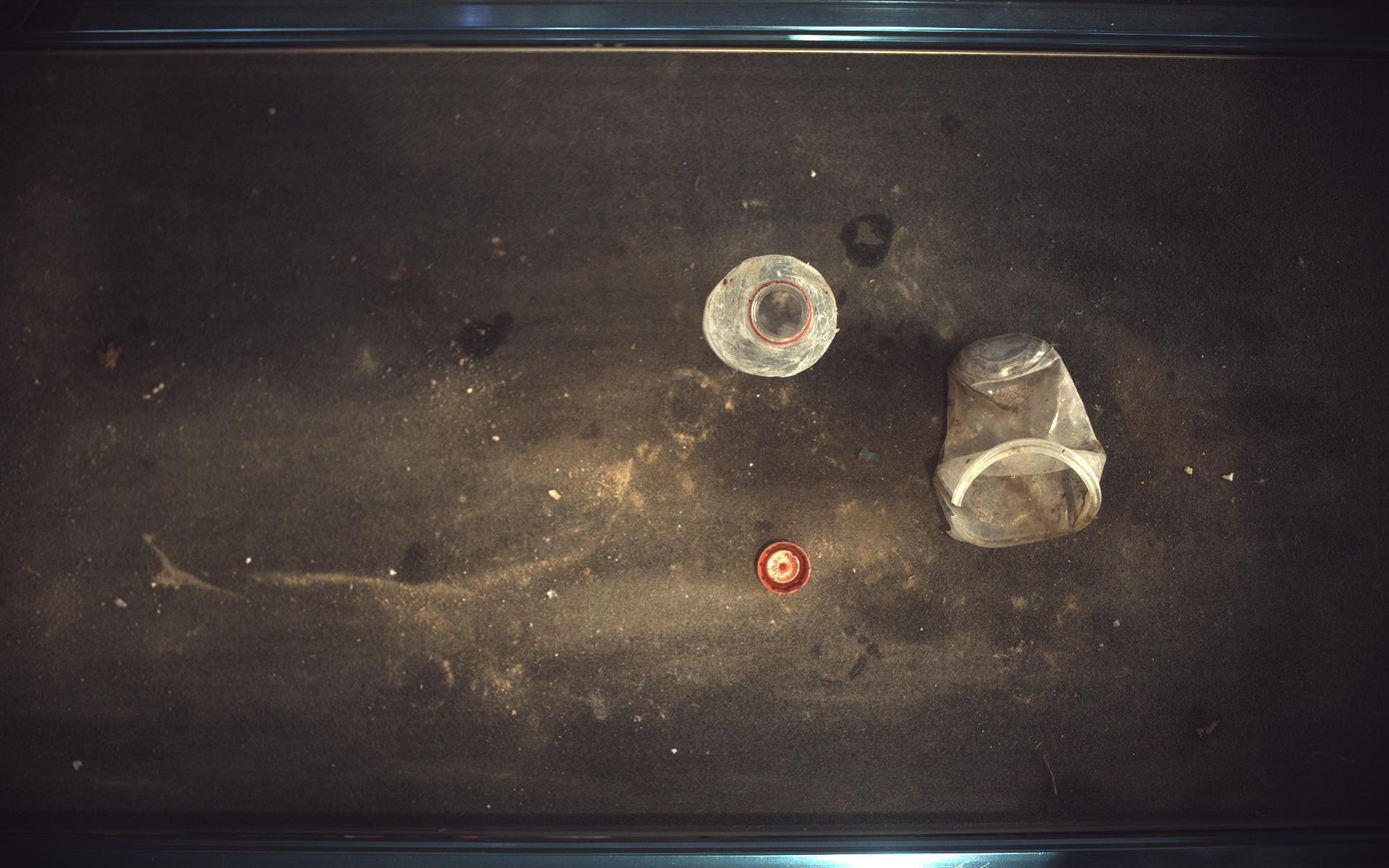general_w: (937, 333, 1109, 548), (705, 254, 838, 377), (757, 541, 813, 595)
